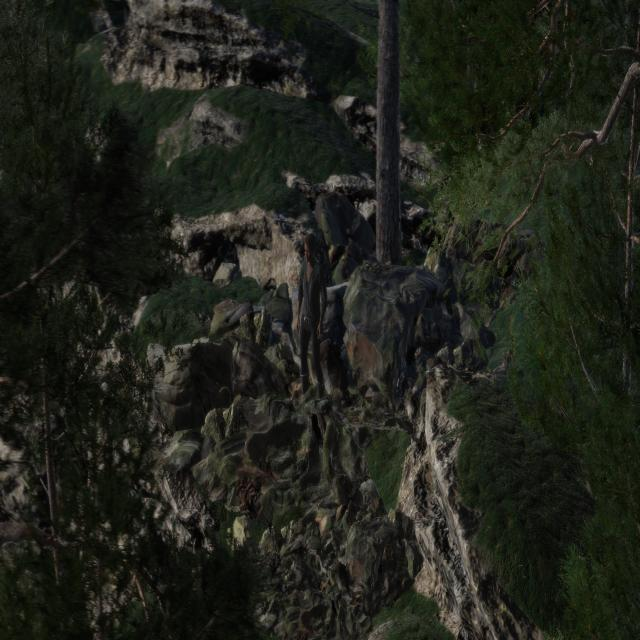Human: (291, 226, 334, 415)
